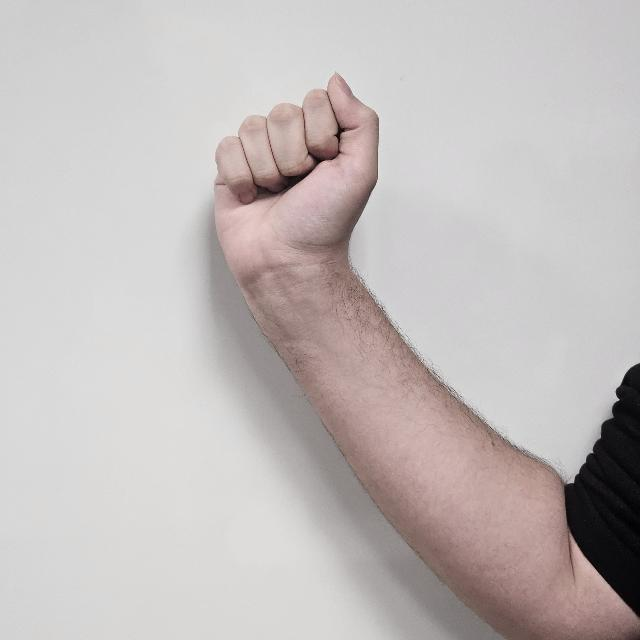Quadro: (211, 75, 383, 272)
